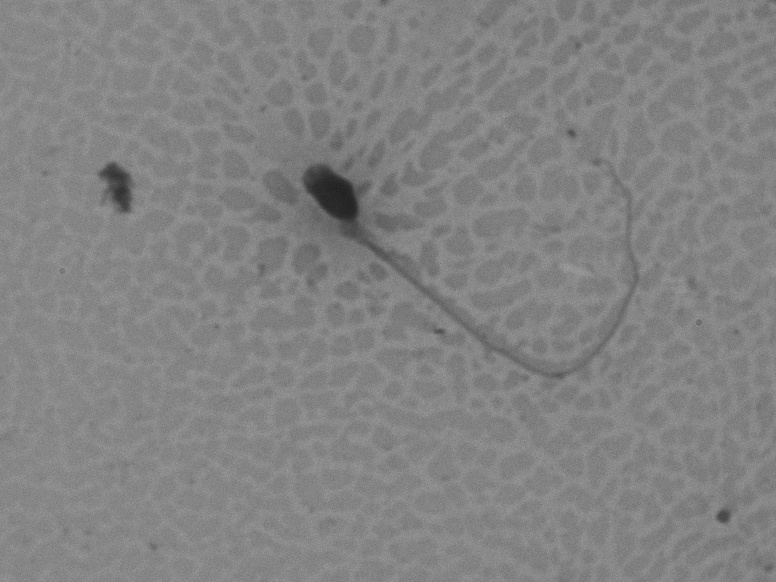Abnormal: (237, 107, 674, 406)
